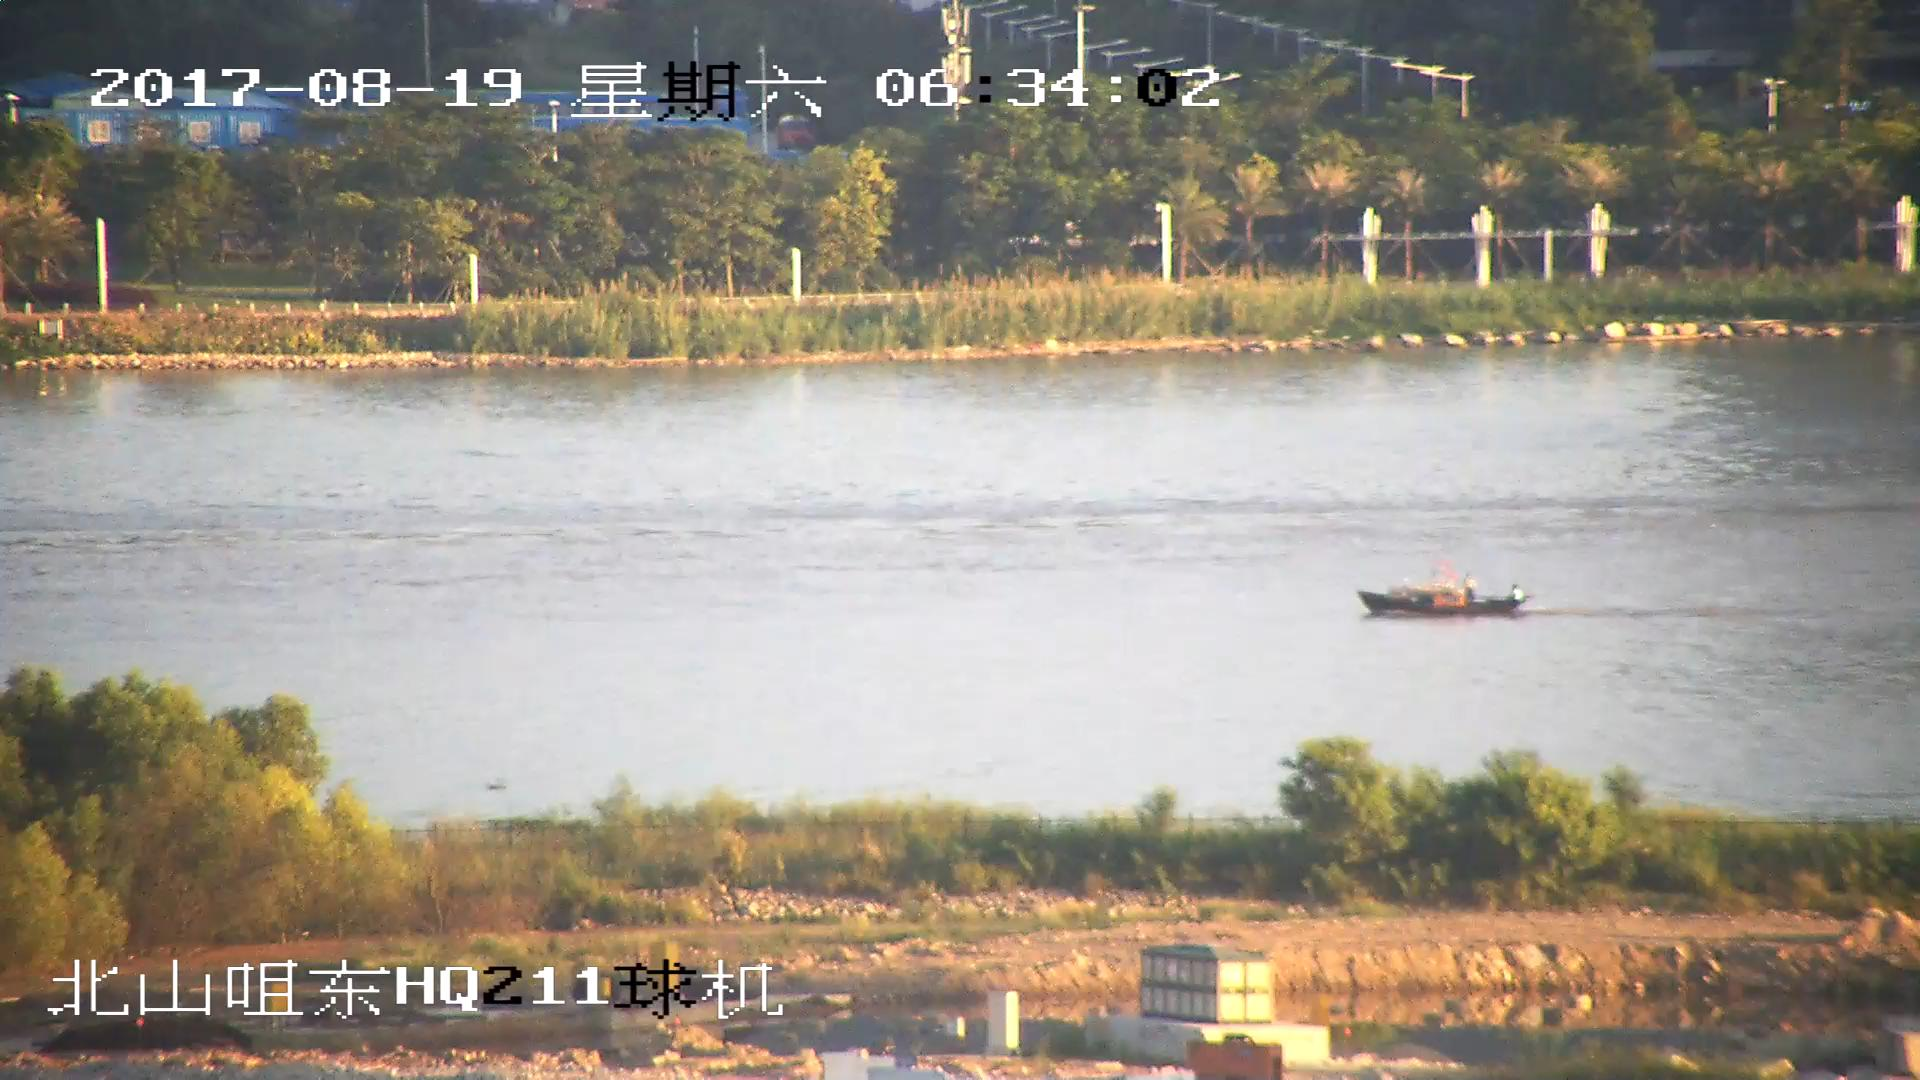fishing boat: (1357, 571, 1527, 620)
